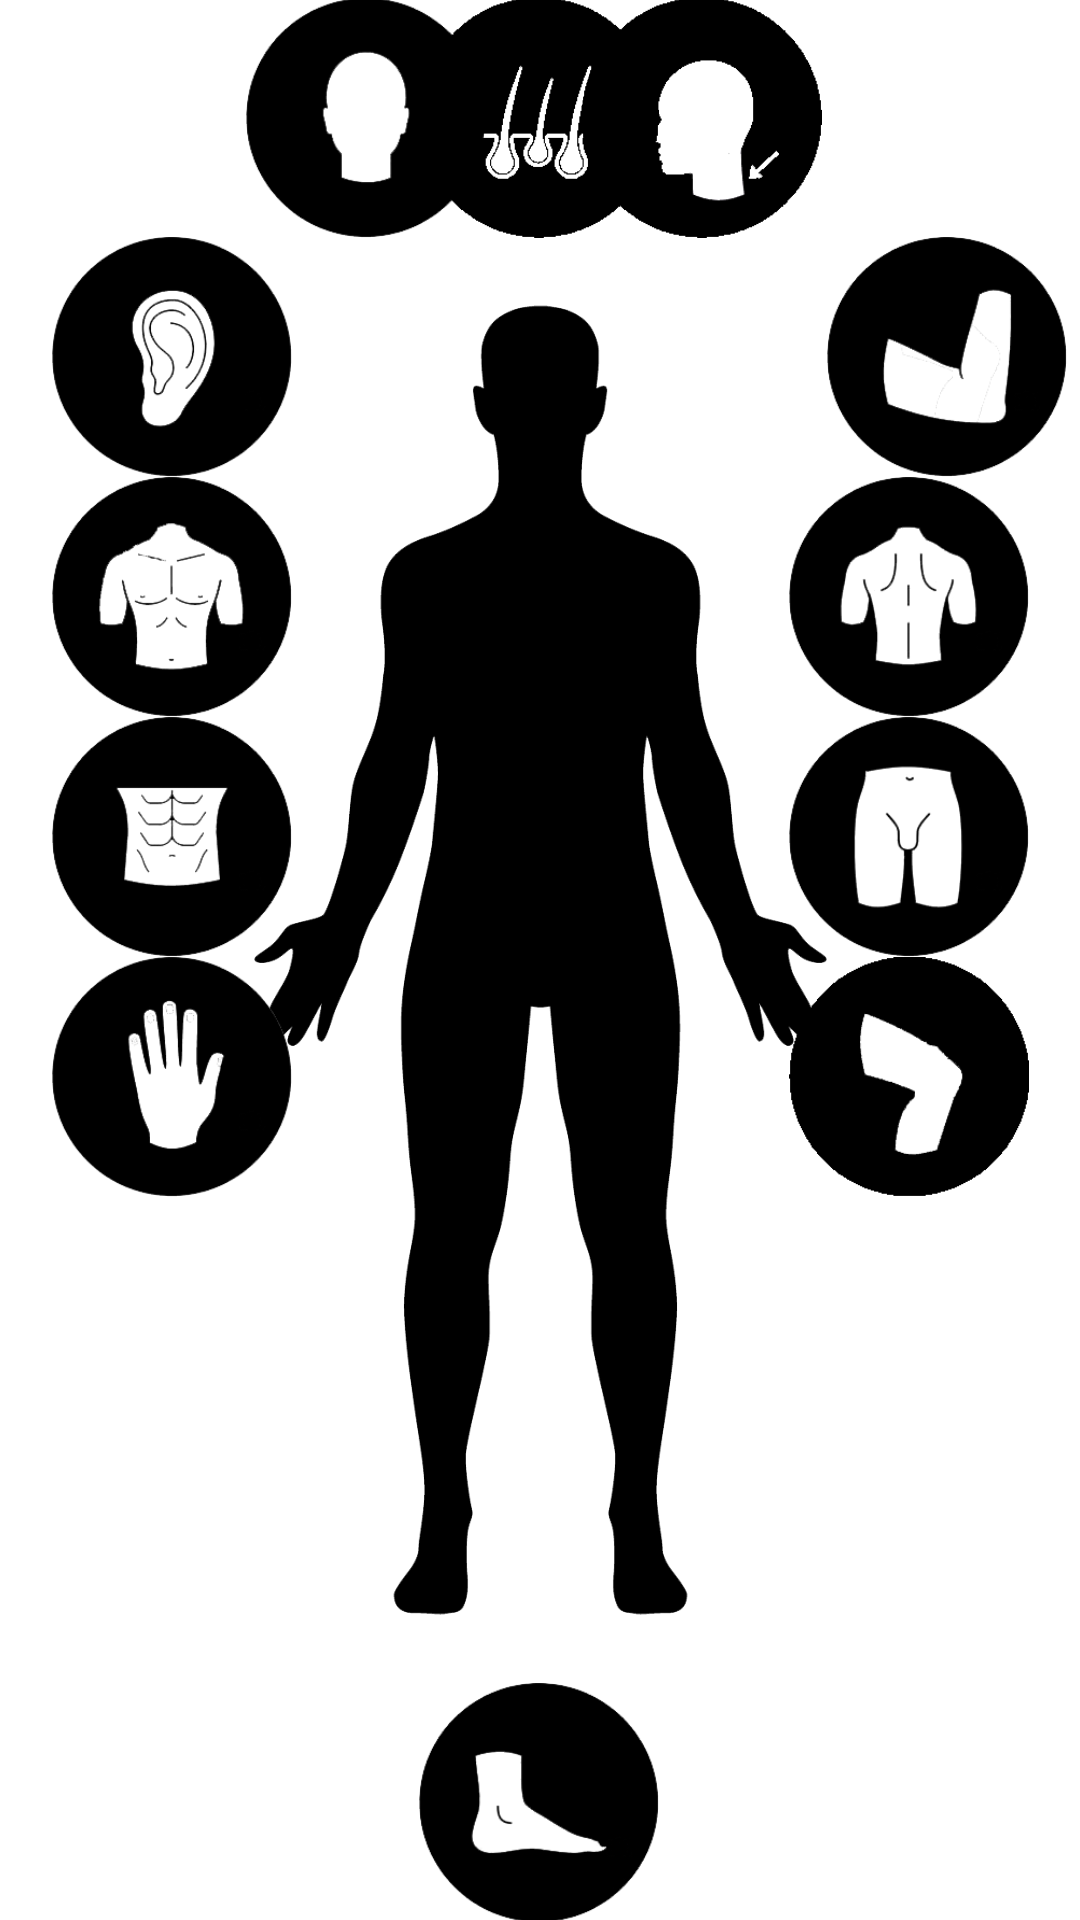

Named icons in this screenshot (1080px x 1920px) and their centers, (x,y):
abdomen: (171,836)
back: (908,596)
chest: (171,596)
ear: (172,356)
face: (366,118)
foot: (538,1801)
genital: (908,836)
hand: (172,1076)
lower extremity: (909,1076)
neck: (702,119)
scalp: (539,119)
upper extremity: (946,356)
